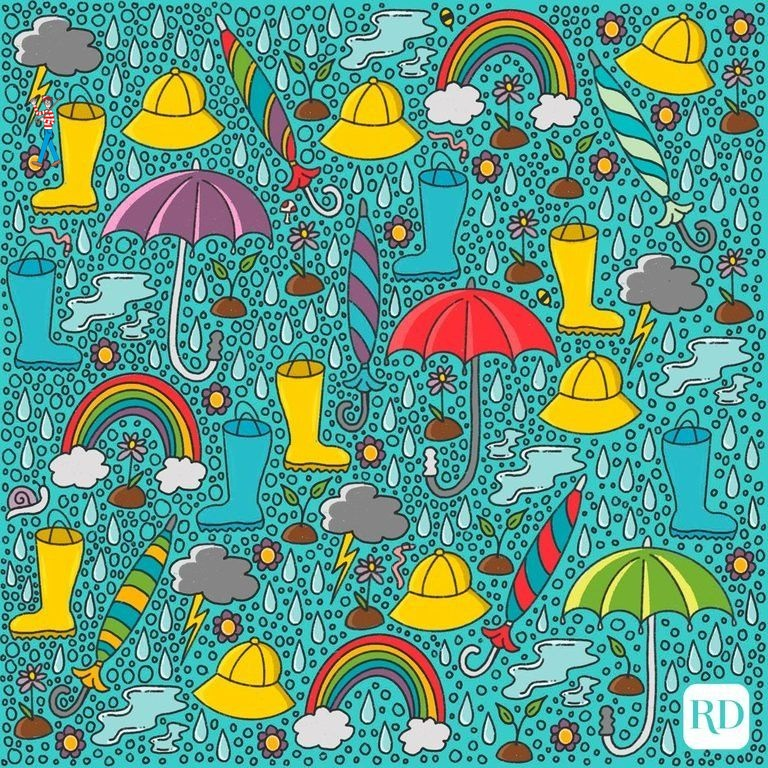waldo: (30, 95, 61, 167)
